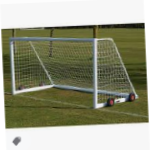goals: (8, 34, 140, 108)
